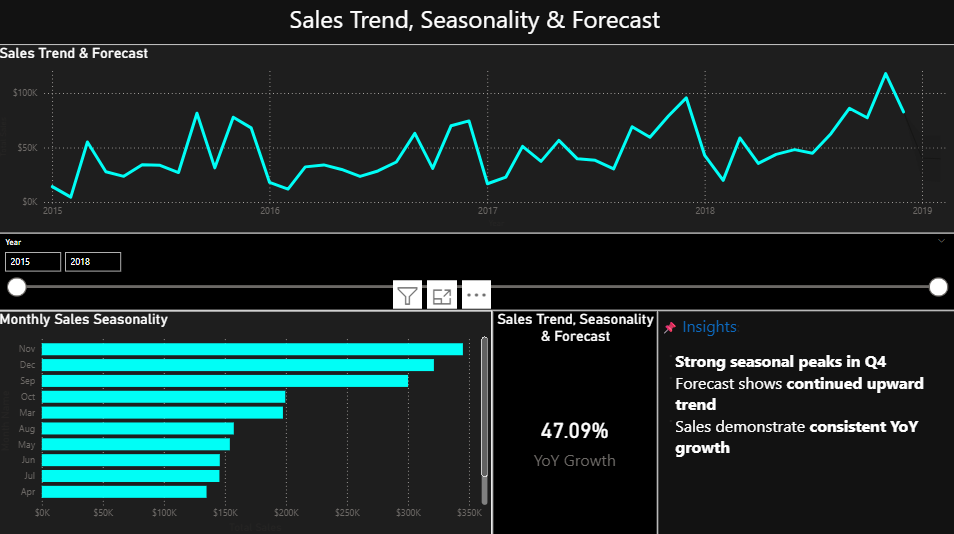

The dashboard page shown, as its layout file describes it:
{"tool":"powerbi","page":{"name":"Forecasting","canvas":[1280,720],"ordinal":2},"visuals":[{"type":"textbox","box":[0,0,1280,81.7],"z":0},{"type":"lineChart","title":"Sales Trend & Forecast","fields":{"Y":["cleaned_sales.Total Sales"],"Category":["cleaned_sales.order_date.Variation.Date Hierarchy.Year","cleaned_sales.order_date.Variation.Date Hierarchy.Month"]},"box":[0,61.7,1280,251.7],"z":1000},{"type":"slicer","fields":{"Values":["cleaned_sales.year"]},"box":[0,313.3,1280,103.3],"z":2000},{"type":"clusteredBarChart","title":"Monthly Sales Seasonality","fields":{"Y":["cleaned_sales.Total Sales"],"Category":["cleaned_sales.Month Name"]},"box":[0,416.7,663.3,303.3],"z":3000},{"type":"card","title":"Sales Trend, Seasonality & Forecast","fields":{"Values":["cleaned_sales.YoY Growth"]},"box":[663.3,416.7,220,303.3],"z":4000},{"type":"textbox","box":[883.3,416.7,396.7,303.3],"z":5000}]}

Visuals, with their boxes in screenshot pixels (x1, y1, x2, y2), scaled from the page's 1280x720 canvas onto the 954x534 screenshot:
textbox: bbox=(0, 0, 953, 61)
"Sales Trend & Forecast" lineChart: bbox=(0, 46, 953, 232)
slicer - cleaned_sales.year: bbox=(0, 232, 953, 309)
"Monthly Sales Seasonality" clusteredBarChart: bbox=(0, 309, 494, 533)
"Sales Trend, Seasonality & Forecast" card: bbox=(494, 309, 658, 533)
textbox: bbox=(658, 309, 953, 533)
